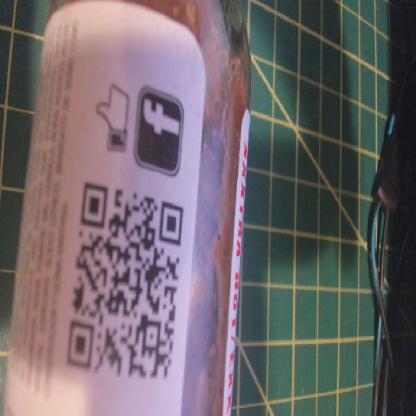qr: (60, 179, 190, 387)
